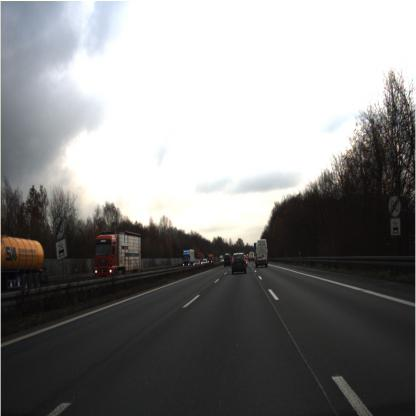restriction ends: (388, 194, 400, 218), (53, 216, 65, 240)
